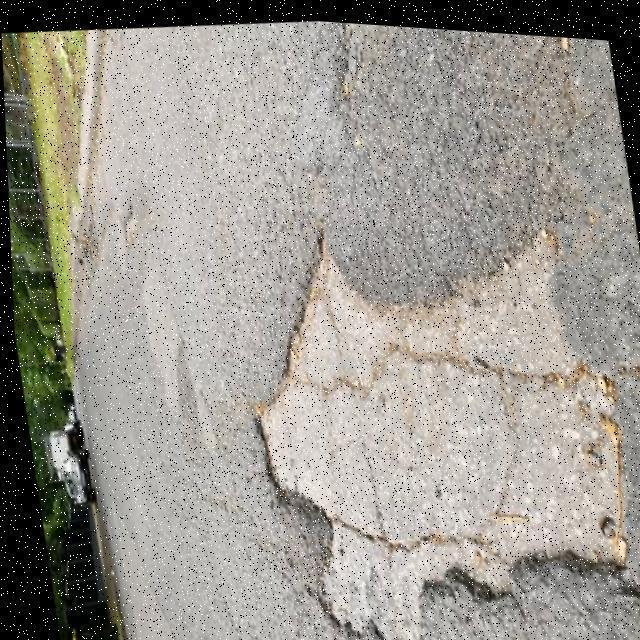Pothole: (260, 231, 625, 640)
